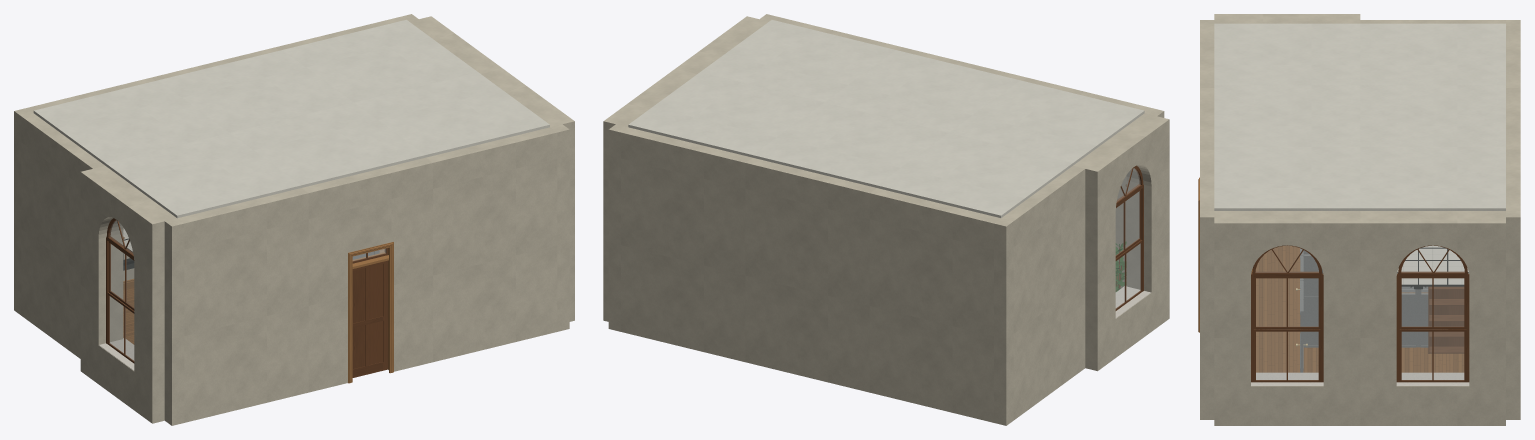
File: X14_DEMO_LRS_Room.glb
3 views of the same model, side by side, from view 1: azimuth 30°, elevation 25°; view 2: azimuth 150°, elevation 25°; view 3: azimuth 270°, elevation 25° (orthographic).
Parts seen in each view (by area): view 1: X14_ARCH_Wall_Plain_300_LOD0.s0, X14_ARCH_Wall_Plain_300_LOD0.s2, X14_ARCH_Wall_Door_300_LOD0.s1, X14_ARCH_Wall_Window_300_LOD0.w1, X14_ARCH_Wall_Plain_300_LOD0.w0, X14_ARCH_Ceiling_300_LOD0.c00, X14_ARCH_Ceiling_300_LOD0.c10, X14_ARCH_Ceiling_300_LOD0.c20, X14_ARCH_Ceiling_300_LOD0.c01, X14_ARCH_Ceiling_300_LOD0.c11, X14_ARCH_Ceiling_300_LOD0.c21, X14_ARCH_Corner_LOD0.k0 (+10 smaller); view 2: X14_ARCH_Wall_Plain_300_LOD0.n1, X14_ARCH_Wall_Plain_300_LOD0.n2, X14_ARCH_Wall_Plain_300_LOD0.n0, X14_ARCH_Wall_Window_300_LOD0.w1, X14_ARCH_Wall_Plain_300_LOD0.w0, X14_ARCH_Ceiling_300_LOD0.c01, X14_ARCH_Ceiling_300_LOD0.c21, X14_ARCH_Ceiling_300_LOD0.c11, X14_ARCH_Ceiling_300_LOD0.c00, X14_ARCH_Ceiling_300_LOD0.c10, X14_ARCH_Ceiling_300_LOD0.c20, X14_ARCH_Corner_LOD0.k3 (+7 smaller); view 3: X14_ARCH_Wall_Window_300_LOD0.e0, X14_ARCH_Wall_Window_300_LOD0.e1, X14_ARCH_Ceiling_300_LOD0.c20, X14_ARCH_Ceiling_300_LOD0.c21, X14_ARCH_Ceiling_300_LOD0.c00, X14_ARCH_Ceiling_300_LOD0.c01, X14_ARCH_Ceiling_300_LOD0.c10, X14_ARCH_Ceiling_300_LOD0.c11, X14_ARCH_Wall_Window_300_Glass_LOD0.e0, X14_ARCH_Wall_Window_300_Glass_LOD0.e1, X14_ARCH_Corner_LOD0.k1, X14_ARCH_Corner_LOD0.k2 (+19 smaller).
Boxes of the visible parts, bbox=[...] form: X14_ARCH_Wall_Plain_300_LOD0.s0: bbox=[177, 188, 308, 422]; X14_ARCH_Wall_Plain_300_LOD0.s2: bbox=[426, 127, 557, 362]; X14_ARCH_Wall_Door_300_LOD0.s1: bbox=[302, 157, 432, 392]; X14_ARCH_Wall_Window_300_LOD0.w1: bbox=[80, 166, 176, 423]; X14_ARCH_Wall_Plain_300_LOD0.w0: bbox=[21, 113, 104, 358]; X14_ARCH_Ceiling_300_LOD0.c00: bbox=[105, 133, 301, 218]; X14_ARCH_Ceiling_300_LOD0.c10: bbox=[230, 102, 425, 187]; X14_ARCH_Ceiling_300_LOD0.c20: bbox=[354, 72, 549, 157]; X14_ARCH_Ceiling_300_LOD0.c01: bbox=[33, 80, 229, 165]; X14_ARCH_Ceiling_300_LOD0.c11: bbox=[158, 50, 353, 132]; X14_ARCH_Ceiling_300_LOD0.c21: bbox=[282, 19, 477, 102]; X14_ARCH_Corner_LOD0.k0: bbox=[164, 218, 184, 425]; X14_ARCH_Wall_Plain_300_LOD0.n1: bbox=[745, 157, 876, 392]; X14_ARCH_Wall_Plain_300_LOD0.n2: bbox=[869, 188, 1000, 422]; X14_ARCH_Wall_Plain_300_LOD0.n0: bbox=[621, 127, 751, 361]; X14_ARCH_Wall_Window_300_LOD0.w1: bbox=[1073, 113, 1169, 371]; X14_ARCH_Wall_Plain_300_LOD0.w0: bbox=[1001, 166, 1085, 420]; X14_ARCH_Ceiling_300_LOD0.c01: bbox=[877, 133, 1072, 217]; X14_ARCH_Ceiling_300_LOD0.c21: bbox=[628, 72, 823, 157]; X14_ARCH_Ceiling_300_LOD0.c11: bbox=[752, 102, 948, 187]; X14_ARCH_Ceiling_300_LOD0.c00: bbox=[949, 80, 1144, 165]; X14_ARCH_Ceiling_300_LOD0.c10: bbox=[824, 50, 1019, 132]; X14_ARCH_Ceiling_300_LOD0.c20: bbox=[700, 20, 895, 102]; X14_ARCH_Corner_LOD0.k3: bbox=[994, 218, 1013, 425]; X14_ARCH_Wall_Window_300_LOD0.e0: bbox=[1214, 211, 1360, 425]; X14_ARCH_Wall_Window_300_LOD0.e1: bbox=[1360, 211, 1505, 425]; X14_ARCH_Ceiling_300_LOD0.c20: bbox=[1214, 147, 1360, 210]; X14_ARCH_Ceiling_300_LOD0.c21: bbox=[1360, 147, 1505, 210]; X14_ARCH_Ceiling_300_LOD0.c00: bbox=[1214, 23, 1360, 85]; X14_ARCH_Ceiling_300_LOD0.c01: bbox=[1360, 23, 1505, 85]; X14_ARCH_Ceiling_300_LOD0.c10: bbox=[1214, 85, 1360, 146]; X14_ARCH_Ceiling_300_LOD0.c11: bbox=[1360, 85, 1505, 146]; X14_ARCH_Wall_Window_300_Glass_LOD0.e0: bbox=[1256, 246, 1318, 379]; X14_ARCH_Wall_Window_300_Glass_LOD0.e1: bbox=[1401, 246, 1464, 379]; X14_ARCH_Corner_LOD0.k1: bbox=[1200, 211, 1214, 419]; X14_ARCH_Corner_LOD0.k2: bbox=[1506, 211, 1520, 419].
Size of what is drawn, in the model's own units: 10.2 by 4.66 by 6.63.
Materials: 30 (15 with a texture image).
